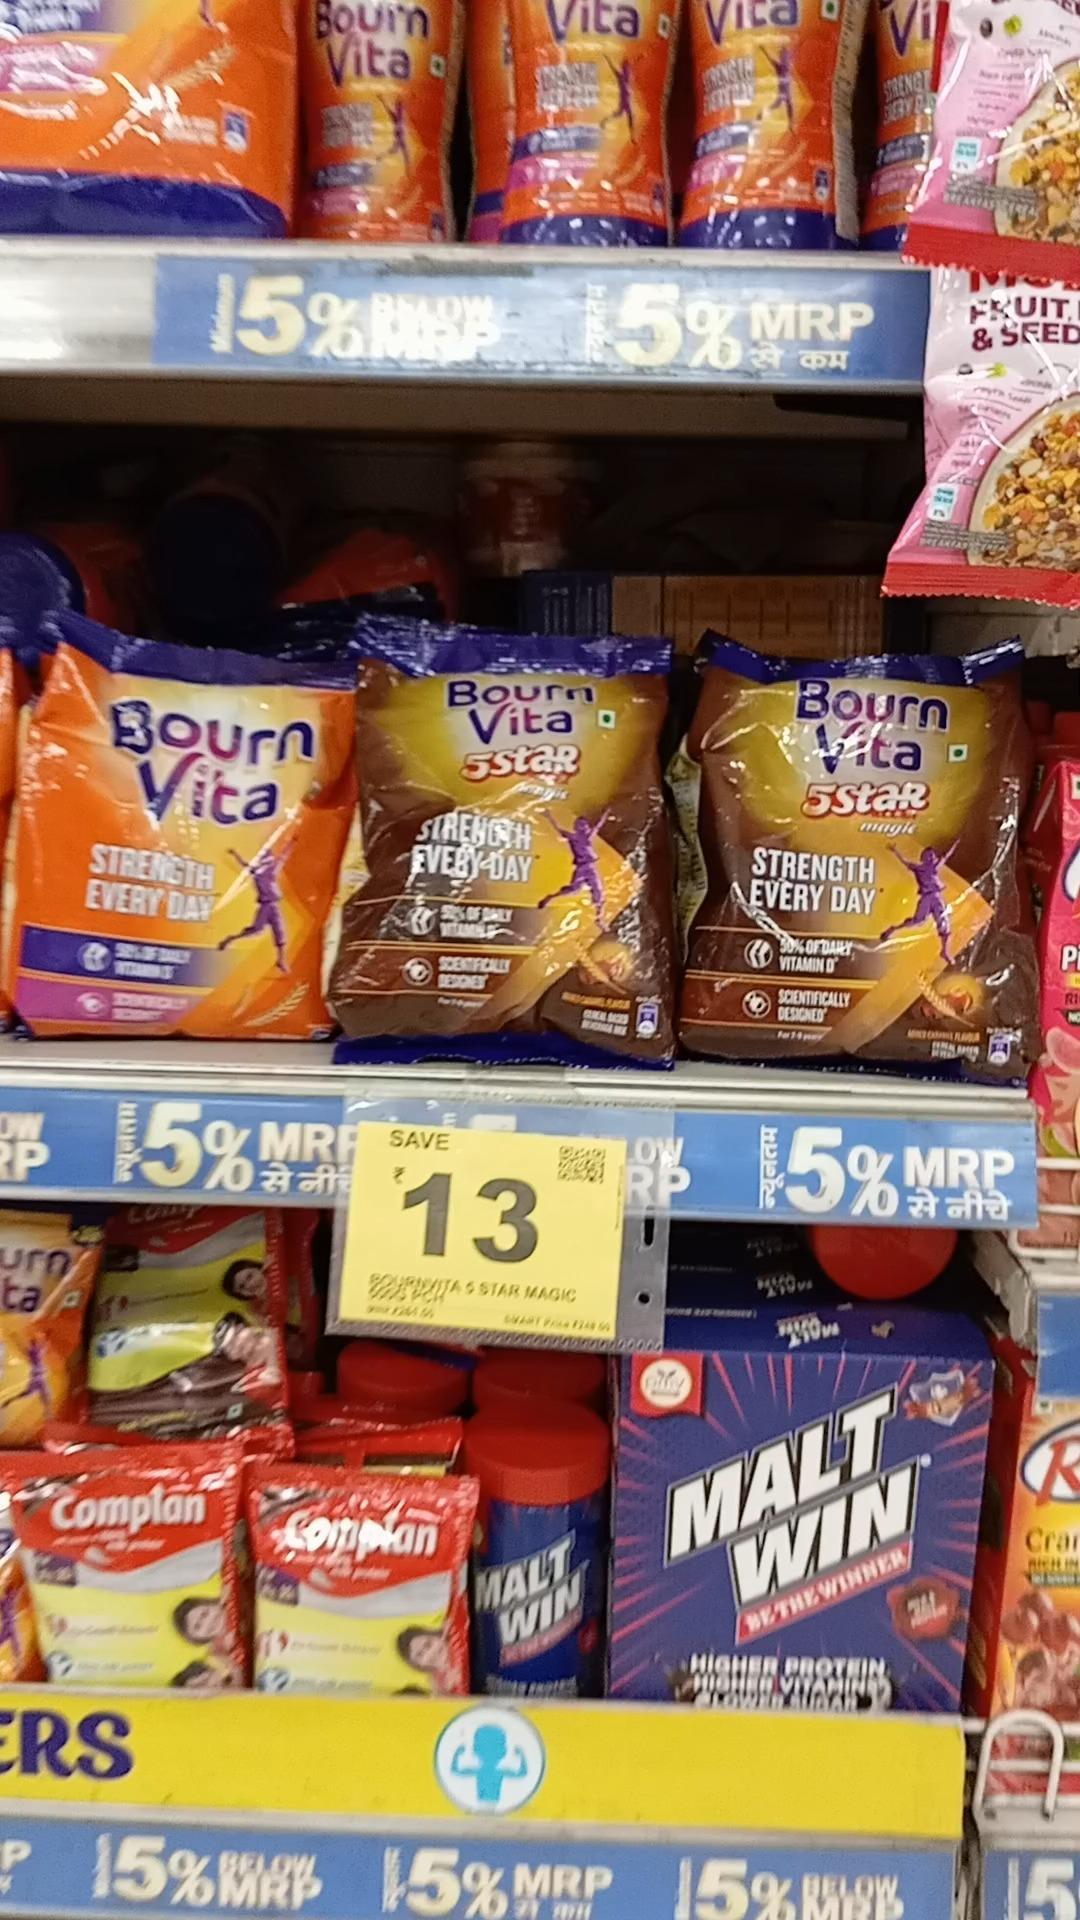BOURN_VITA_500_G_POUCH: (0, 612, 338, 1040), (256, 1464, 298, 1522)
BOURN_VITA_FIVE_STAR_MAGIC_500_G_POUCH: (675, 633, 1026, 1079), (347, 618, 658, 1069)
